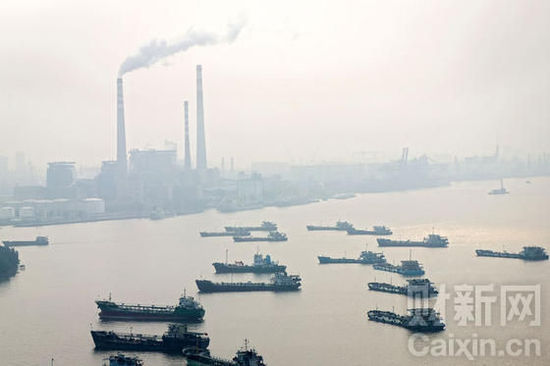dust: (110, 18, 222, 77)
